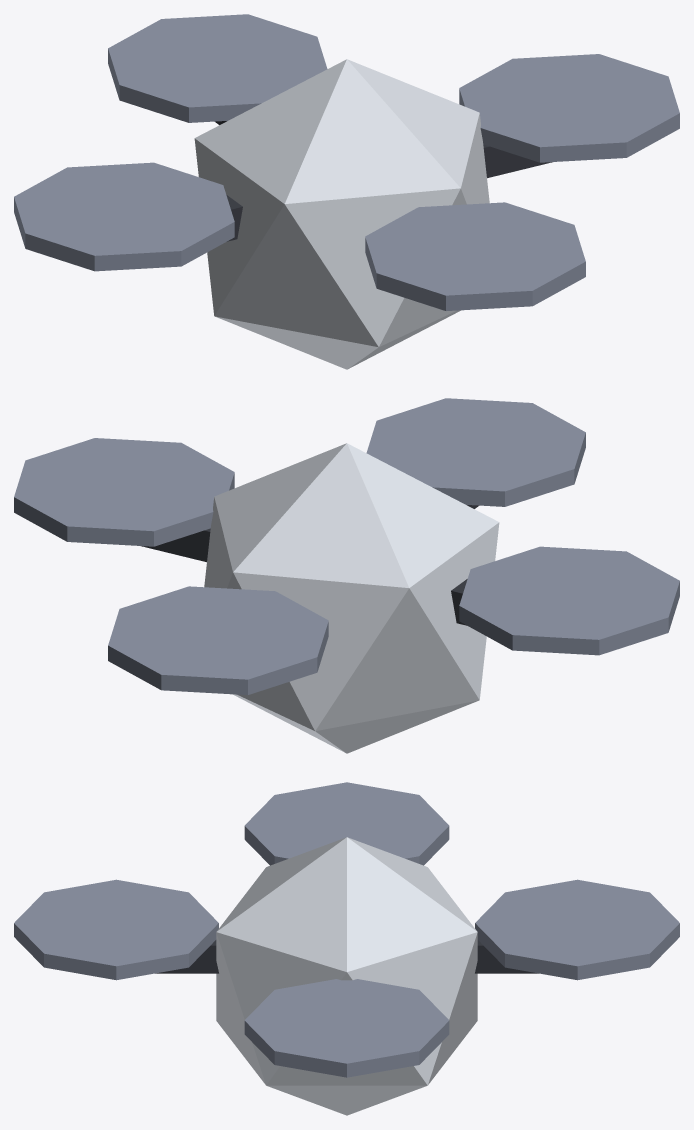
Rendered from colony-drone.glb.
3 renders of one model, top to bottom at view 1: azimuth 30°, elevation 25°; view 2: azimuth 150°, elevation 25°; view 3: azimuth 270°, elevation 25°, orthographic. The views are drawn at different scales.
Parts seen in each view (by area): view 1: drone; view 2: drone; view 3: drone.
Part boxes in pixels (x1=…): drone: x1=14, y1=14, x2=679, y2=369; drone: x1=14, y1=398, x2=679, y2=753; drone: x1=14, y1=782, x2=679, y2=1115.
Bounding box in the file's own units: 1.3 × 0.6 × 1.3.
